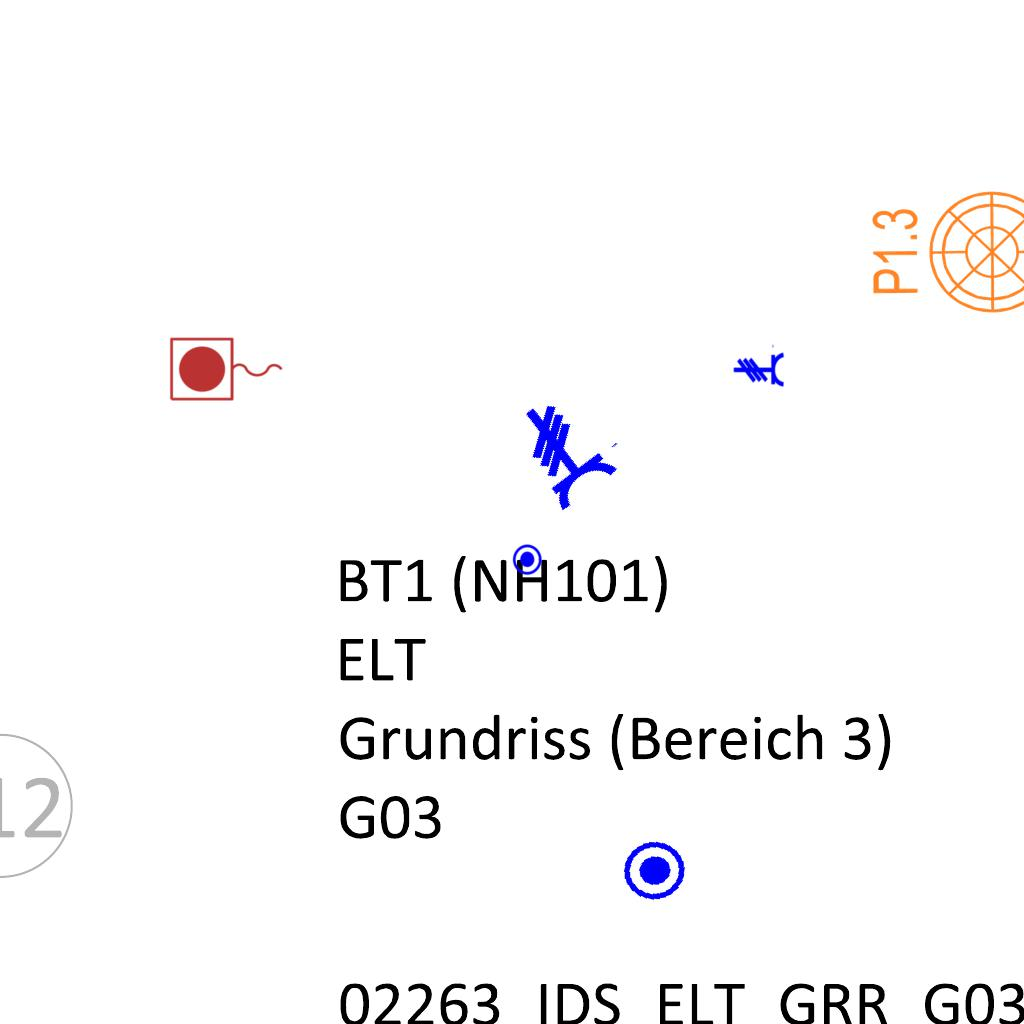Aufbaurundleuchte_LED_Treppenhaus: (854, 177, 1024, 316)
CEE_Drehstrom_Steckdose_16_32_A: (499, 377, 635, 515), (733, 343, 785, 388)
Taster: (617, 835, 693, 911), (512, 543, 545, 576)
Zugtaster: (166, 334, 288, 406)
